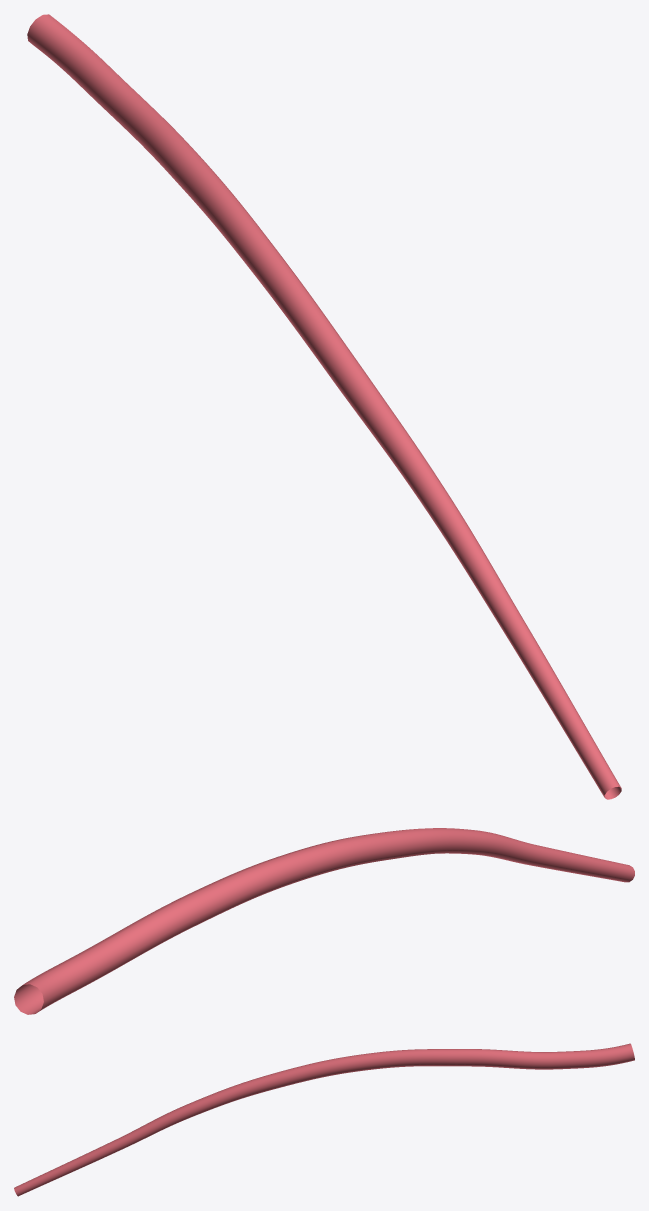
3 views of the same model, one above another, from view 1: azimuth 30°, elevation 25°; view 2: azimuth 150°, elevation 25°; view 3: azimuth 270°, elevation 25° (orthographic). The views are drawn at different scales.
Parts seen in each view (by area): view 1: ZA_833f00221e048e03; view 2: ZA_833f00221e048e03; view 3: ZA_833f00221e048e03.
Boxes of the visible parts, left/top/right/bottom form: ZA_833f00221e048e03: left=27, top=14, right=621, bottom=799; ZA_833f00221e048e03: left=14, top=828, right=634, bottom=1014; ZA_833f00221e048e03: left=14, top=1043, right=634, bottom=1196.
Bounding box in the file's own units: 0.00473 × 0.0184 × 0.0636.
